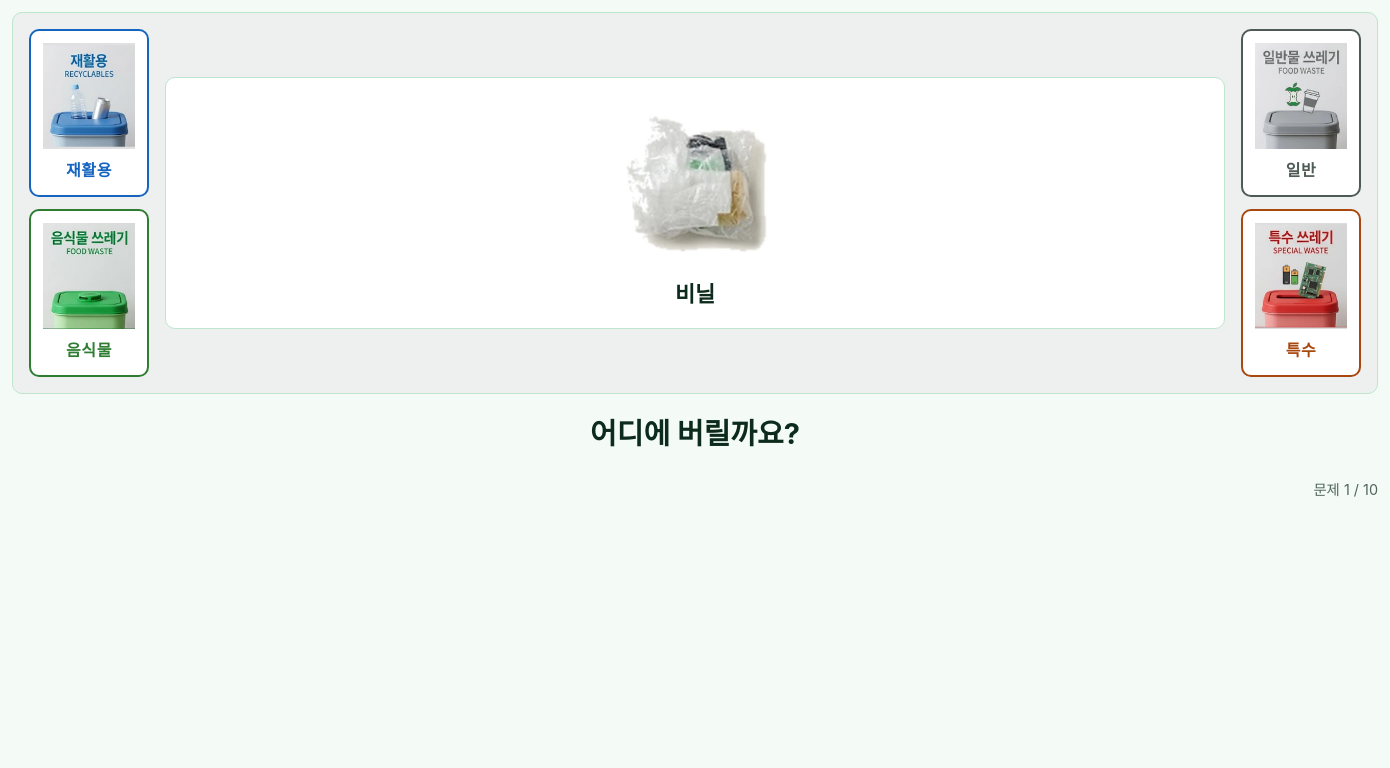
GameExperience › locks the bins until the preparation is chosen
The image size is (1390, 768).
Step 1. Click the button "재활용" → (89, 113), box x1=29 y1=29 x2=149 y2=197
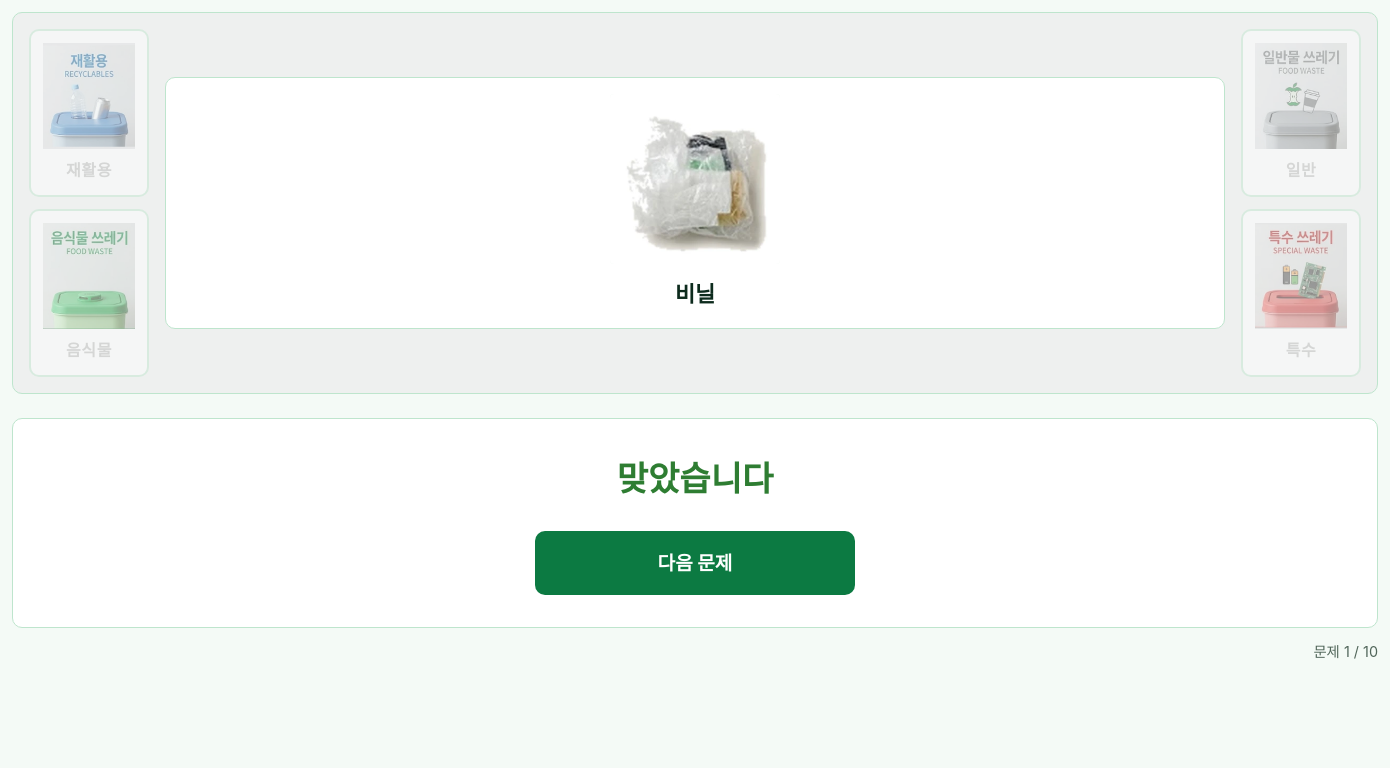
Step 2. Click the button "다음 문제" → (695, 564), box x1=535 y1=532 x2=855 y2=596
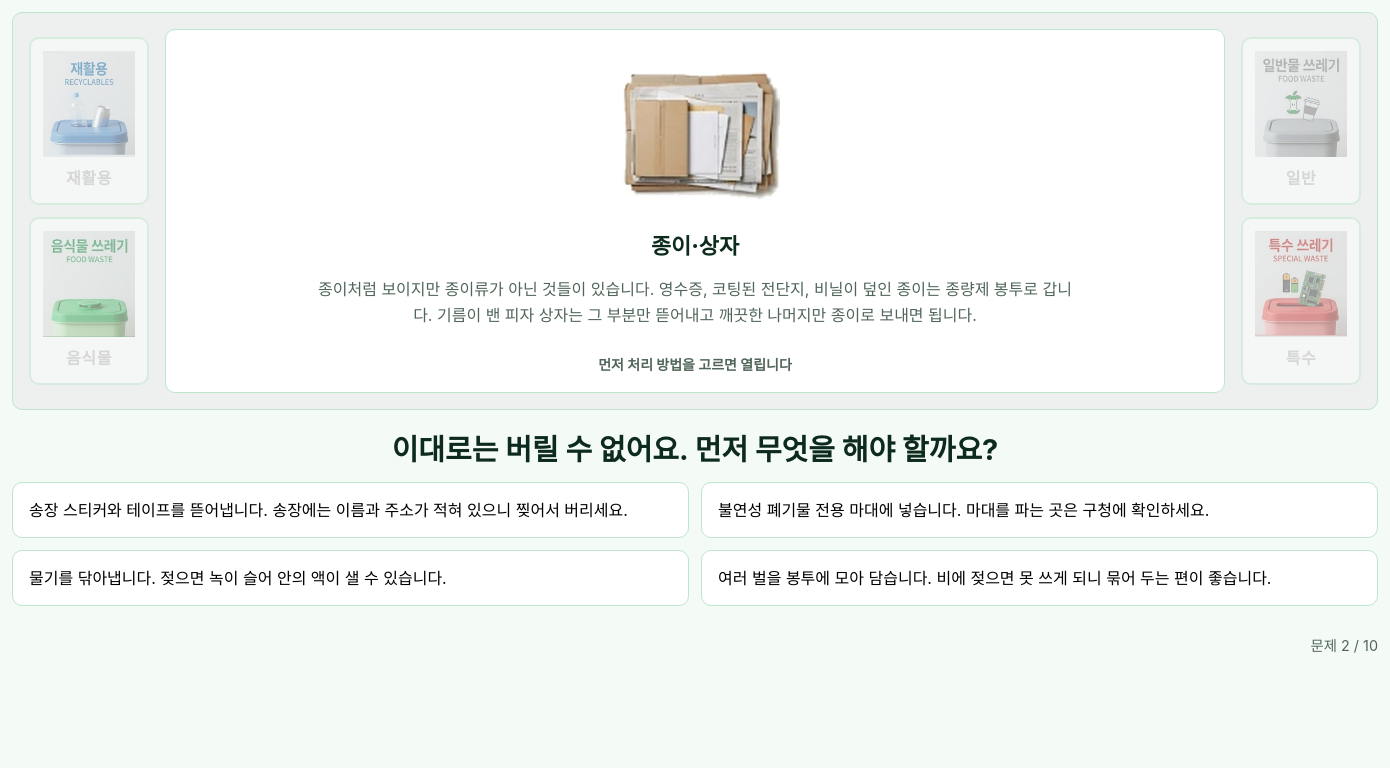
Expected: the button "재활용" is disabled, x1=29 y1=37 x2=149 y2=205
Expected: the button "음식물" is disabled, x1=29 y1=217 x2=149 y2=385
Expected: the text "먼저 처리 방법을 고르면 열립니다" is shown, x1=598 y1=353 x2=792 y2=376
